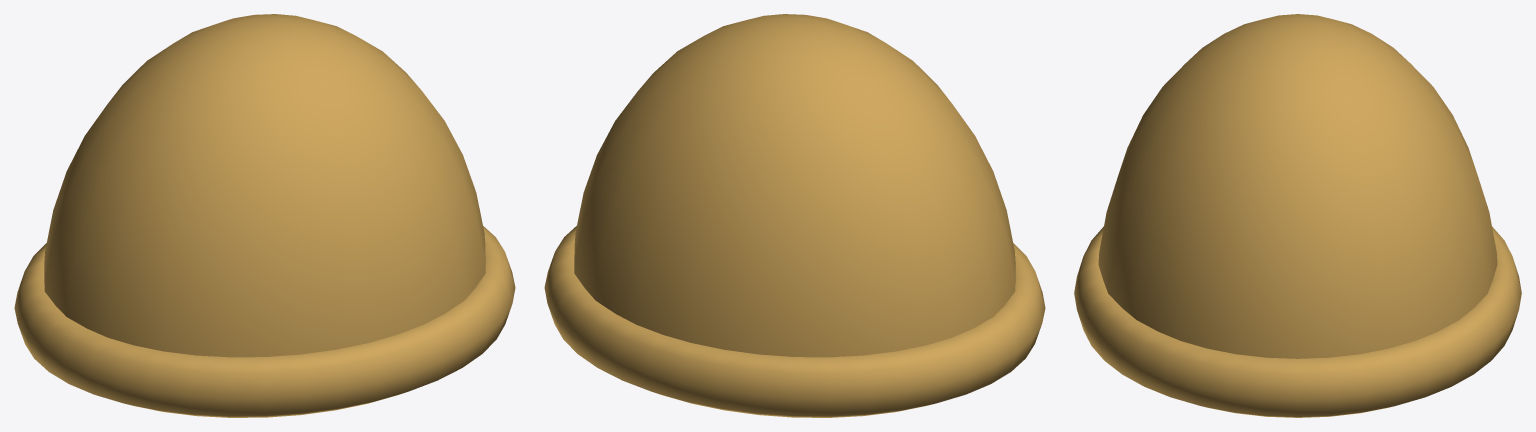
The model's file is wp-casque-de-chantier.glb.
3 renders of one model, left to right at view 1: azimuth 30°, elevation 25°; view 2: azimuth 150°, elevation 25°; view 3: azimuth 270°, elevation 25°, orthographic. The views are drawn at different scales.
Visible parts, largest first — view 1: wp-casque-de-chantier; view 2: wp-casque-de-chantier; view 3: wp-casque-de-chantier.
Boxes of the visible parts, x1,y1,x2,y2 form: wp-casque-de-chantier: [14, 14, 515, 417]; wp-casque-de-chantier: [544, 14, 1045, 417]; wp-casque-de-chantier: [1074, 14, 1521, 417].
Size of the model in its own units: 0.28 by 0.18 by 0.25.
